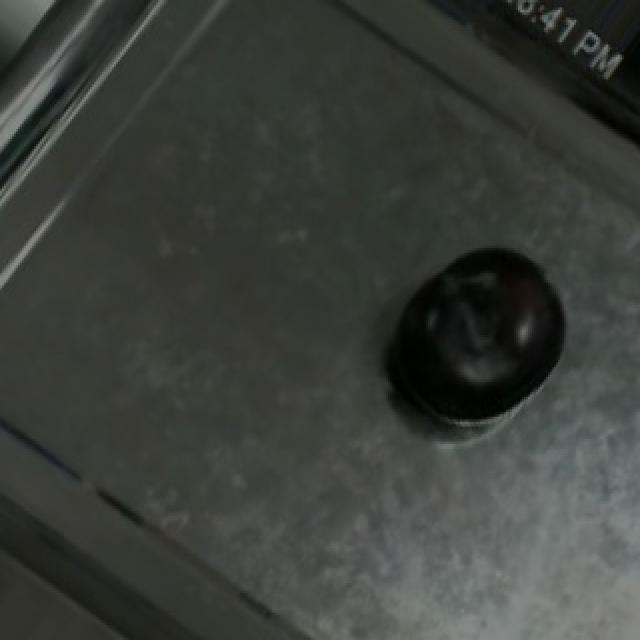Fruit: (388, 253, 576, 439), (600, 5, 640, 166)
